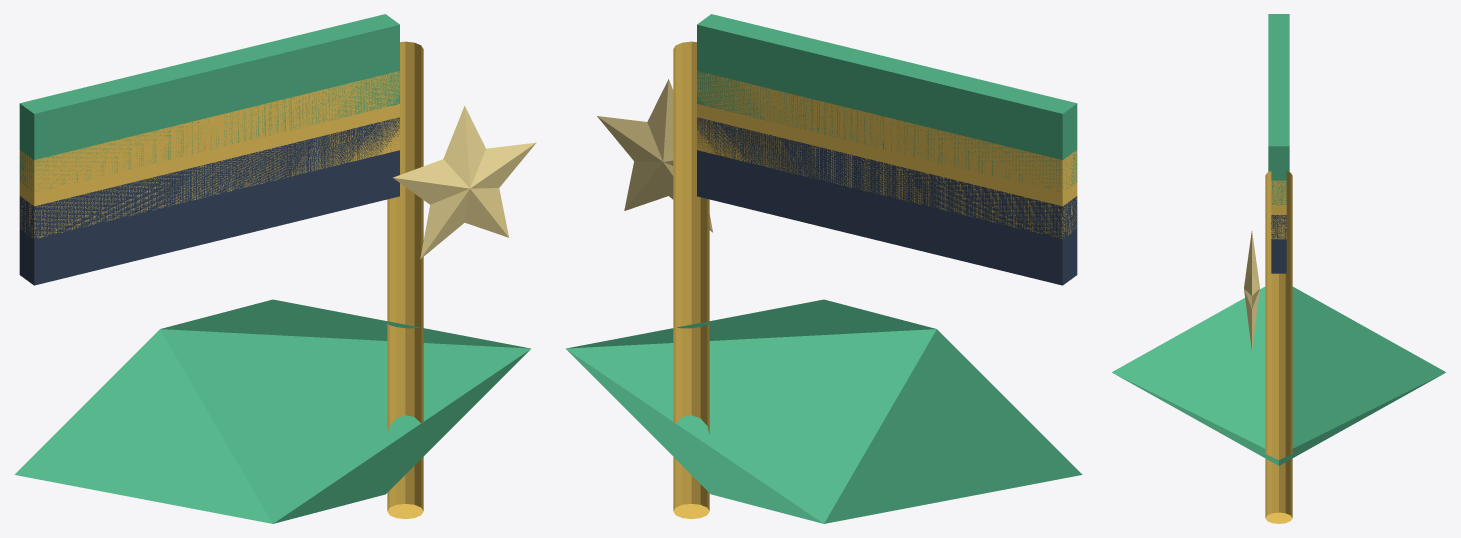
Rendered from minglora_island_pride.gltf.
The picture shows the model from 3 angles, left to right: view 1: azimuth 30°, elevation 25°; view 2: azimuth 150°, elevation 25°; view 3: azimuth 270°, elevation 25°; orthographic projection. The views are drawn at different scales.
Visible parts, largest first — view 1: minglora_island_pride_part_0, minglora_island_pride_part_1, minglora_island_pride_part_3, minglora_island_pride_part_2, minglora_island_pride_part_5, minglora_island_pride_part_4; view 2: minglora_island_pride_part_0, minglora_island_pride_part_1, minglora_island_pride_part_3, minglora_island_pride_part_2, minglora_island_pride_part_5, minglora_island_pride_part_4; view 3: minglora_island_pride_part_0, minglora_island_pride_part_5, minglora_island_pride_part_3, minglora_island_pride_part_4, minglora_island_pride_part_1, minglora_island_pride_part_2.
Boxes of the visible parts, bbox=[...] form: minglora_island_pride_part_0: bbox=[14, 299, 530, 523]; minglora_island_pride_part_1: bbox=[19, 117, 399, 285]; minglora_island_pride_part_3: bbox=[19, 14, 399, 191]; minglora_island_pride_part_2: bbox=[19, 71, 399, 238]; minglora_island_pride_part_5: bbox=[387, 41, 423, 518]; minglora_island_pride_part_4: bbox=[393, 106, 536, 258]; minglora_island_pride_part_0: bbox=[566, 299, 1082, 523]; minglora_island_pride_part_1: bbox=[697, 117, 1077, 285]; minglora_island_pride_part_3: bbox=[697, 14, 1077, 191]; minglora_island_pride_part_2: bbox=[697, 71, 1077, 238]; minglora_island_pride_part_5: bbox=[673, 41, 709, 518]; minglora_island_pride_part_4: bbox=[597, 79, 712, 232]; minglora_island_pride_part_0: bbox=[1112, 287, 1445, 465]; minglora_island_pride_part_5: bbox=[1265, 171, 1292, 523]; minglora_island_pride_part_3: bbox=[1268, 14, 1289, 204]; minglora_island_pride_part_4: bbox=[1244, 231, 1259, 350]; minglora_island_pride_part_1: bbox=[1271, 215, 1286, 273]; minglora_island_pride_part_2: bbox=[1271, 180, 1286, 239].
Bounding box in the file's own units: 1.64 × 1.5 × 1.24.
